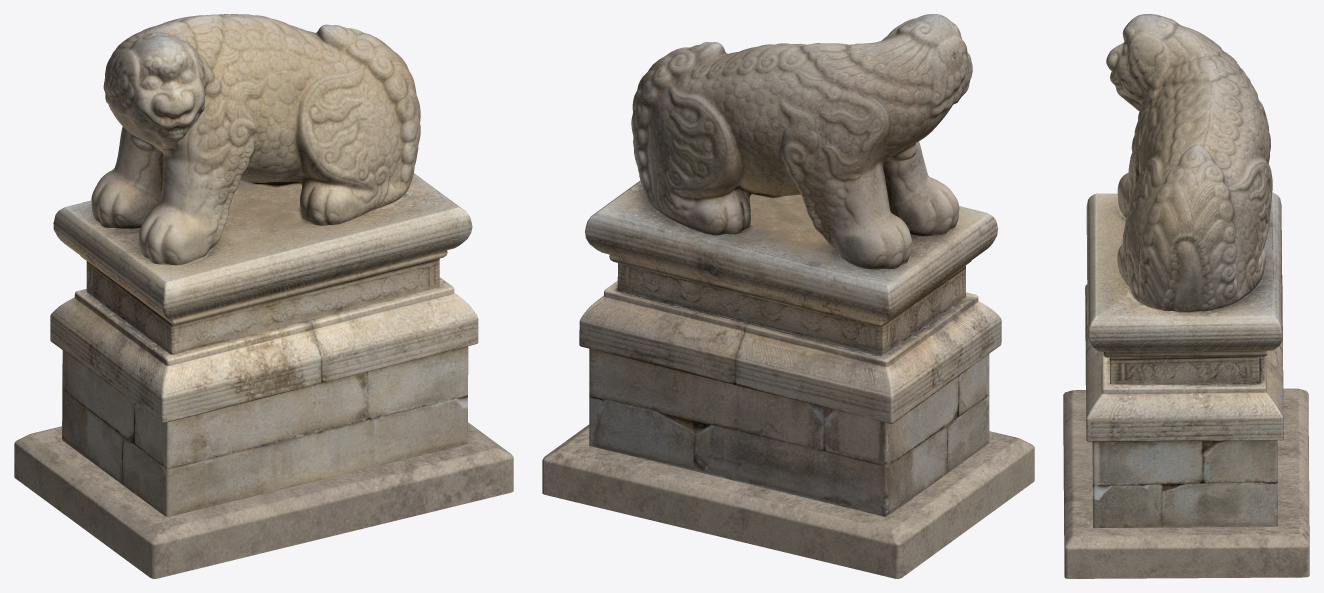
Rendered from haetae_a.glb.
The picture shows the model from 3 angles, left to right: view 1: azimuth 30°, elevation 25°; view 2: azimuth 150°, elevation 25°; view 3: azimuth 270°, elevation 25°; orthographic projection. The views are drawn at different scales.
Parts seen in each view (by area): view 1: SM_GHM_HaetaeA; view 2: SM_GHM_HaetaeA; view 3: SM_GHM_HaetaeA.
Part boxes in pixels (x1,y1,x2,y2): SM_GHM_HaetaeA: [14, 14, 513, 578]; SM_GHM_HaetaeA: [542, 14, 1034, 578]; SM_GHM_HaetaeA: [1063, 14, 1309, 578].
Size of the model in its own units: 2.78 by 3.59 by 1.86.
Materials: 1 (1 with a texture image).
